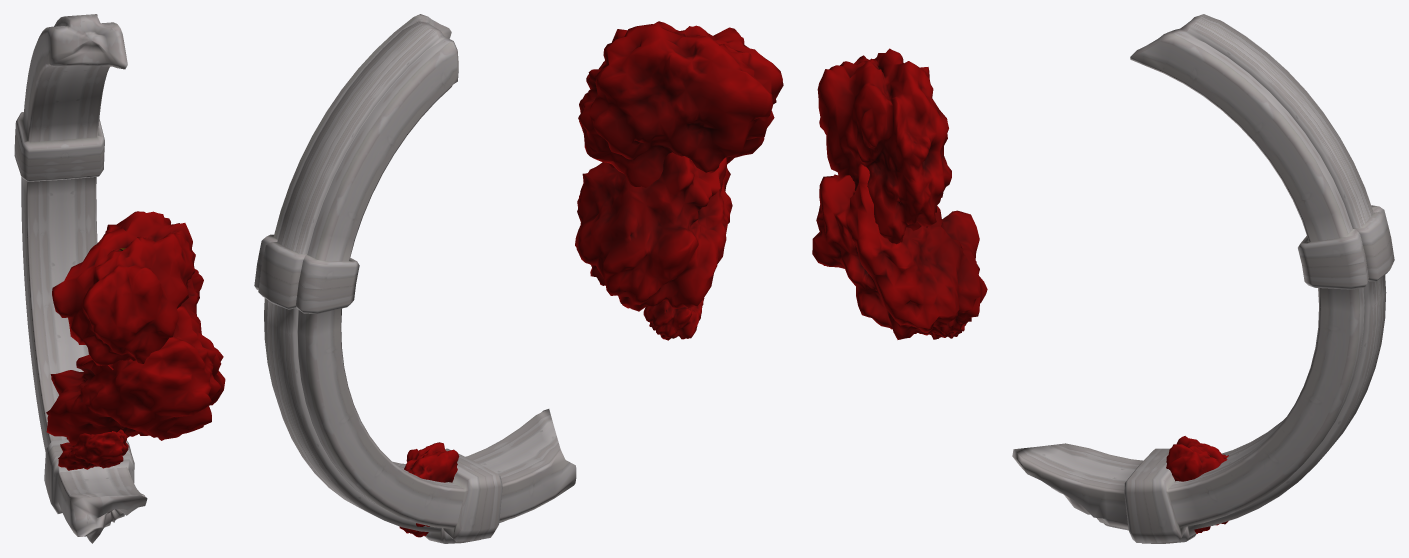
File: GSRuinedRingBroken.fbx
3 renders of one model, left to right at view 1: azimuth 30°, elevation 25°; view 2: azimuth 150°, elevation 25°; view 3: azimuth 270°, elevation 25°, orthographic. The views are drawn at different scales.
Parts seen in each view (by area): view 1: GoldNuggetNestedInRings (×3), GSRuinedRingBroken; view 2: GSRuinedRingBroken, GoldNuggetNestedInRings (×4); view 3: GSRuinedRingBroken, GoldNuggetNestedInRings (×3).
Boxes of the visible parts, <box> form: GoldNuggetNestedInRings (×3): <box>46,211,225,470</box>; GSRuinedRingBroken: <box>14,14,147,543</box>; GSRuinedRingBroken: <box>254,14,576,543</box>; GoldNuggetNestedInRings (×4): <box>399,21,783,537</box>; GSRuinedRingBroken: <box>1012,14,1394,543</box>; GoldNuggetNestedInRings (×3): <box>812,48,1228,533</box>.
Size of the model in its own units: 9.09 by 16.23 by 16.27.
Materials: 2 (1 with a texture image).
